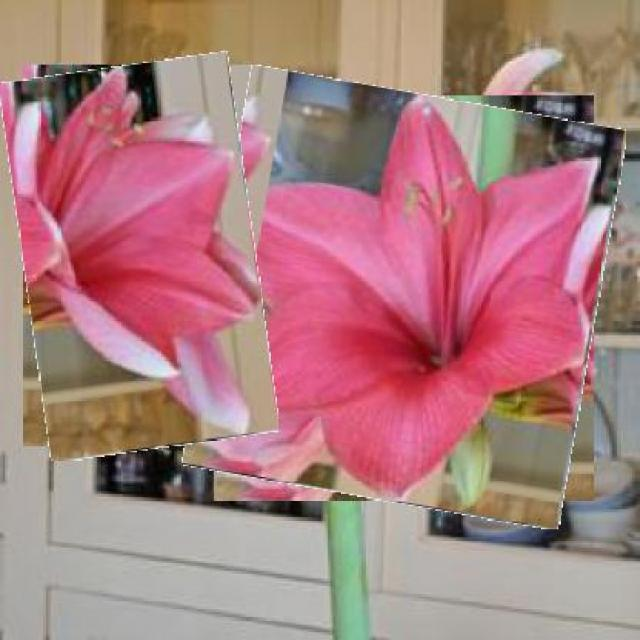Flower: (199, 80, 613, 517), (10, 58, 267, 455)
